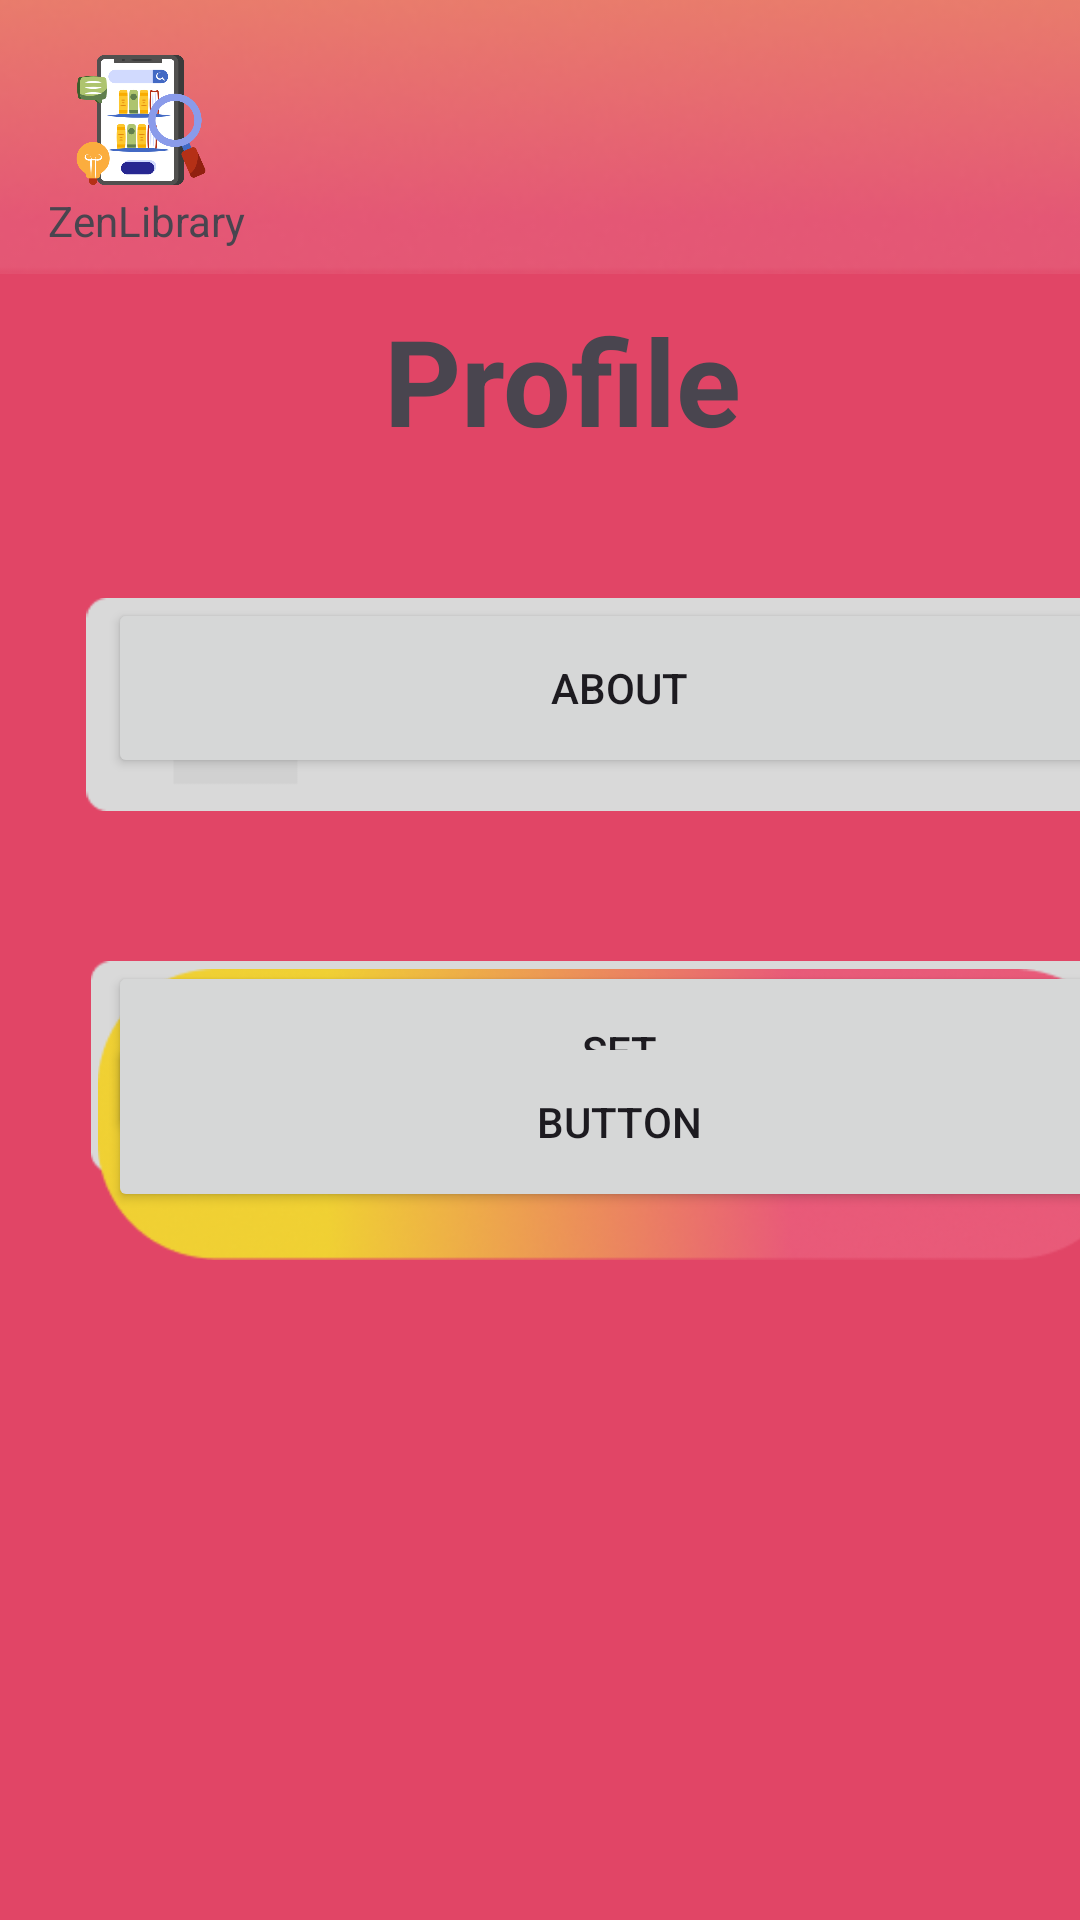

Screen size 1080 × 1920. Icon name, then its box in pixels as (x1, y1, x2, y2):
mobilelibrary: (77, 48, 205, 185)
